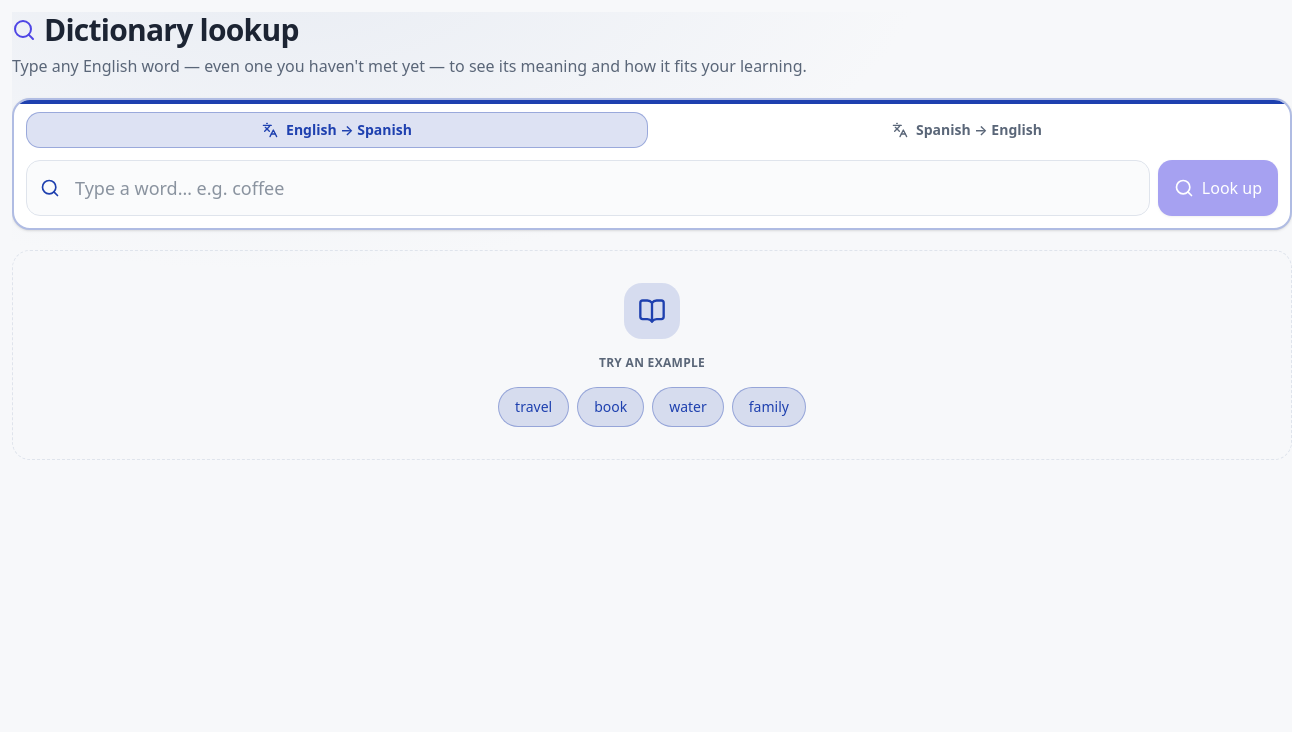
Scenario: DictionaryLookup (V3.30) › palabra no registrada: degrade a definition_source=none y marca «Not met yet»
This screenshot has width=1292, height=732.
Type "nebula" into the field named "Search the dictionary" at (588,188), box x1=26 y1=160 x2=1150 y2=216
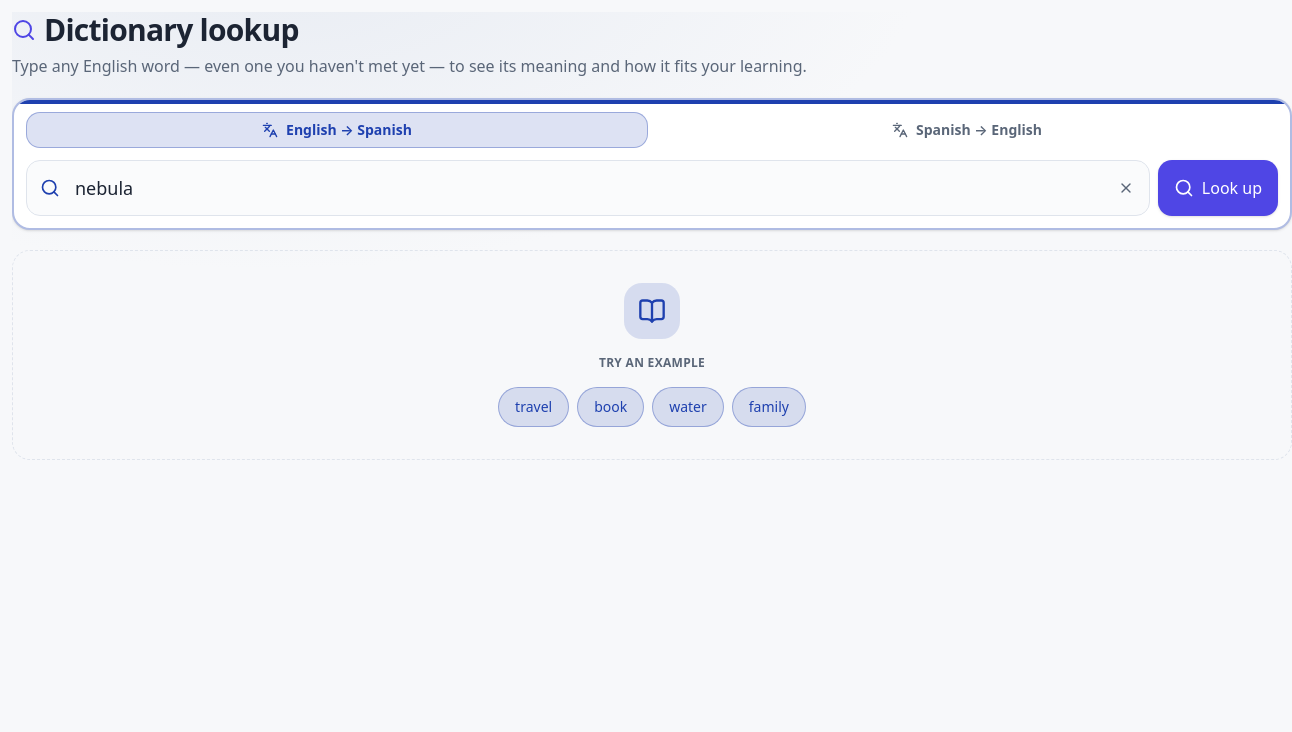
Click the button "Look up" at (1218,188), box x1=1158 y1=160 x2=1278 y2=216
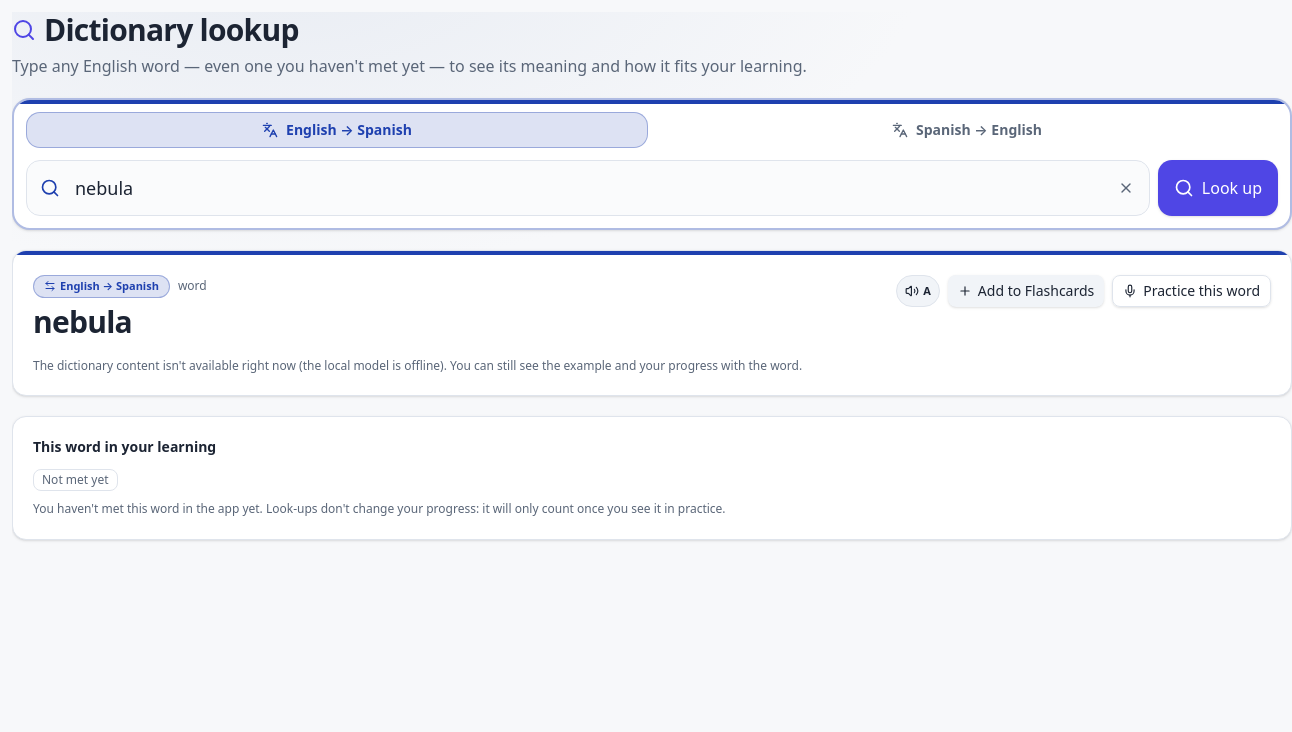
expect the text "The dictionary content isn't available right now" is shown: met, box x1=33 y1=356 x2=802 y2=374
expect the text "Not met yet" is shown: met, box x1=33 y1=469 x2=118 y2=491
expect the text "You haven't met this word in the app yet" is shown: met, box x1=33 y1=500 x2=726 y2=517
